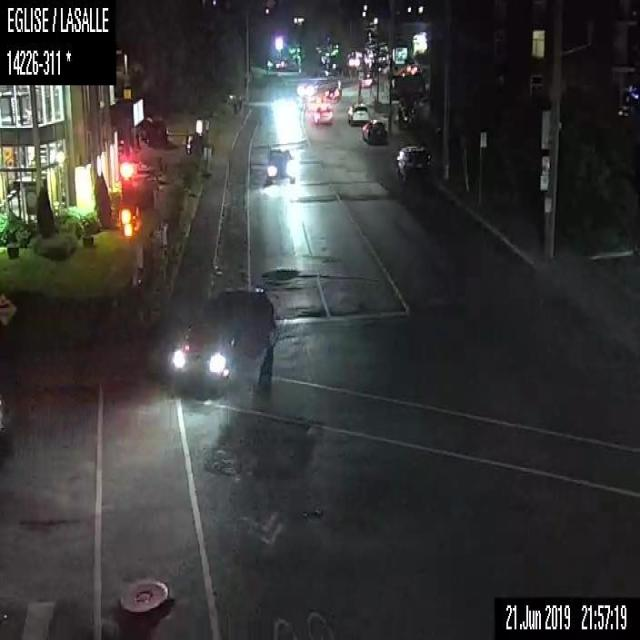vehicle: (172, 287, 277, 397), (394, 143, 434, 187), (266, 144, 294, 183), (138, 116, 167, 147), (360, 119, 387, 145), (310, 102, 335, 125), (347, 102, 369, 126), (294, 78, 316, 97), (322, 84, 340, 101)
